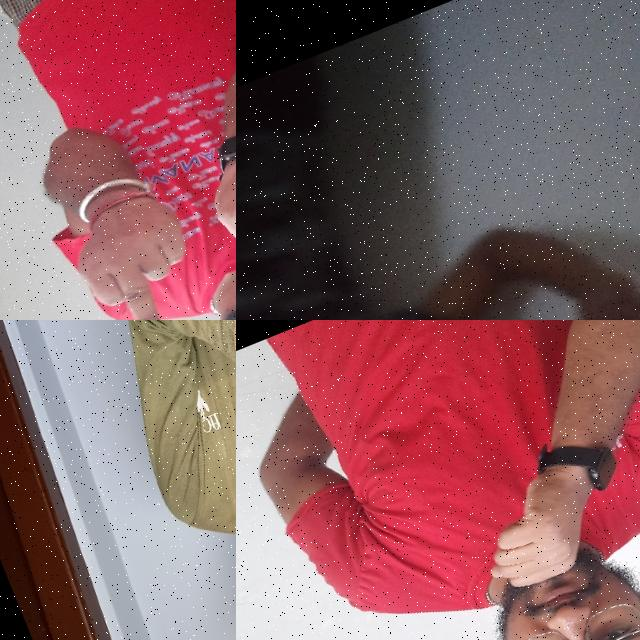Corna: (528, 237, 640, 320)
Fist Mouth: (411, 440, 640, 640)
Middle Finger: (40, 134, 225, 320), (183, 108, 236, 319)
